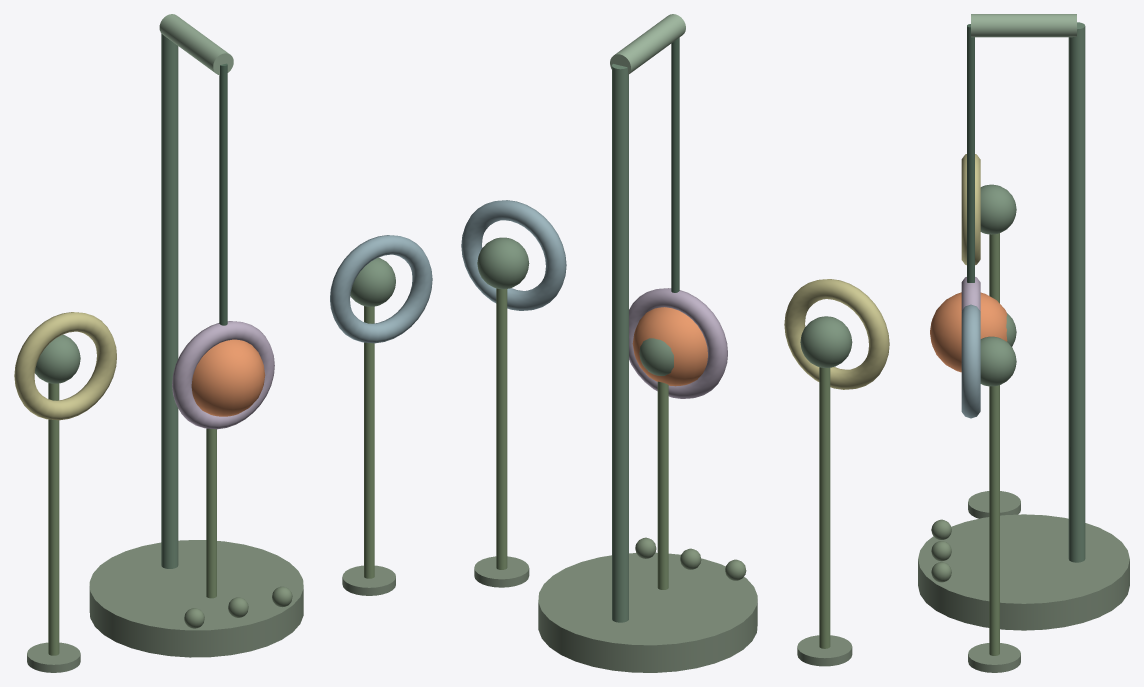
File: swing-station.glb
3 renders of one model, left to right at view 1: azimuth 30°, elevation 25°; view 2: azimuth 150°, elevation 25°; view 3: azimuth 270°, elevation 25°, orthographic. The views are drawn at different scales.
Parts seen in each view (by area): view 1: base-swing, swing-support, bell-rim-2, bell-rim-0, swing-ball, bell-rim-1, bell-post-0, bell-post-2, swing-rope, swing-hanger, bell-post-1, bell-face-0 (+3 smaller); view 2: base-swing, swing-support, bell-rim-2, bell-rim-0, bell-rim-1, swing-ball, bell-post-0, bell-post-2, bell-post-1, swing-rope, bell-face-0, bell-face-2 (+4 smaller); view 3: base-swing, swing-support, swing-ball, bell-post-2, swing-hanger, bell-rim-2, swing-rope, bell-face-0, bell-face-2, bell-rim-0, bell-foot-2, bell-foot-0 (+5 smaller).
Boxes of the visible parts, x1,y1,x2,y2 form: base-swing: (89, 540, 303, 657); swing-support: (161, 33, 178, 568); bell-rim-2: (330, 235, 432, 343); bell-rim-0: (14, 312, 116, 420); swing-ball: (191, 339, 265, 416); bell-rim-1: (172, 321, 274, 429); bell-post-0: (48, 383, 59, 655); bell-post-2: (364, 306, 374, 578); swing-rope: (219, 63, 227, 325); swing-hanger: (159, 14, 233, 75); bell-post-1: (206, 428, 216, 598); bell-face-0: (35, 334, 80, 383); base-swing: (538, 552, 757, 672); swing-support: (612, 64, 628, 622); bell-rim-2: (461, 200, 566, 310); bell-rim-0: (784, 279, 889, 389); bell-rim-1: (629, 288, 727, 398); swing-ball: (632, 307, 707, 386); bell-post-0: (819, 367, 830, 648); bell-post-2: (496, 288, 507, 569); bell-post-1: (657, 381, 668, 589); swing-rope: (671, 37, 679, 292); bell-face-0: (800, 316, 852, 367); bell-face-2: (477, 237, 529, 289); base-swing: (918, 514, 1129, 630); swing-support: (1068, 22, 1085, 562); swing-ball: (930, 292, 1007, 372); bell-post-2: (989, 385, 999, 655); swing-hanger: (971, 14, 1076, 37); bell-rim-2: (961, 304, 980, 418); swing-rope: (967, 24, 974, 282); bell-face-0: (980, 184, 1016, 234); bell-face-2: (980, 336, 1016, 386); bell-rim-0: (961, 154, 980, 265); bell-foot-2: (968, 643, 1020, 672); bell-foot-0: (968, 491, 1020, 518).
Size of the model in its own units: 1.61 by 2.14 by 0.72.
